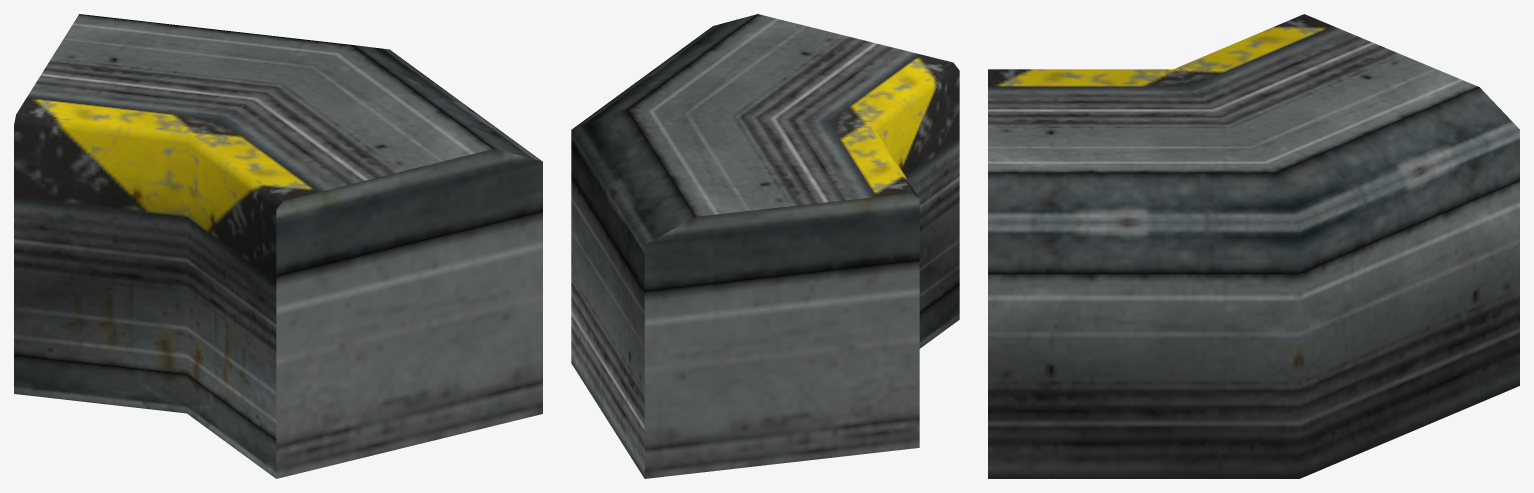
File: Edges_12.fbx
3 views of the same model, side by side, from view 1: azimuth 30°, elevation 25°; view 2: azimuth 150°, elevation 25°; view 3: azimuth 270°, elevation 25° (orthographic). The views are drawn at different scales.
Parts seen in each view (by area): view 1: Edges_12; view 2: Edges_12; view 3: Edges_12.
Boxes of the visible parts, x1,y1,x2,y2 form: Edges_12: (14, 14, 542, 478); Edges_12: (571, 14, 959, 478); Edges_12: (988, 14, 1519, 478).
Size of the model in its own units: 38.99 by 27.46 by 46.97.
Materials: 1 (1 with a texture image).
